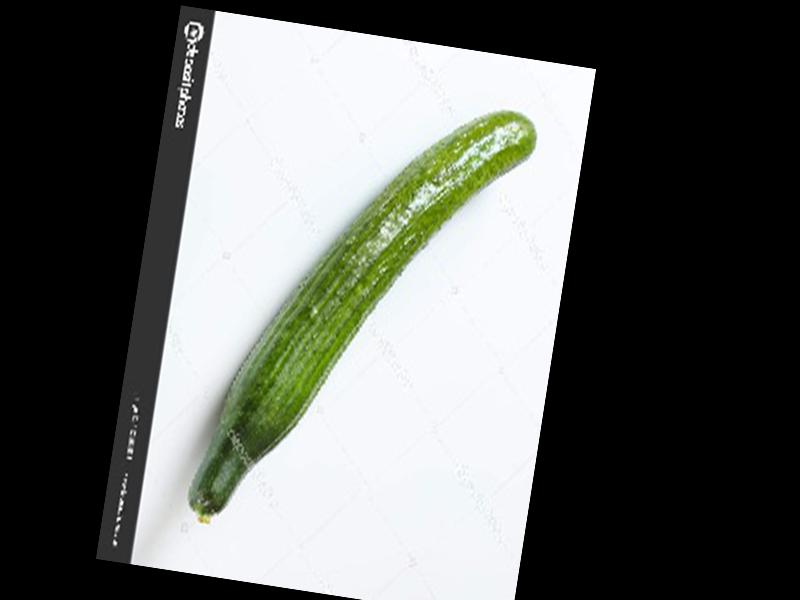Cucumber: (187, 74, 539, 564)
